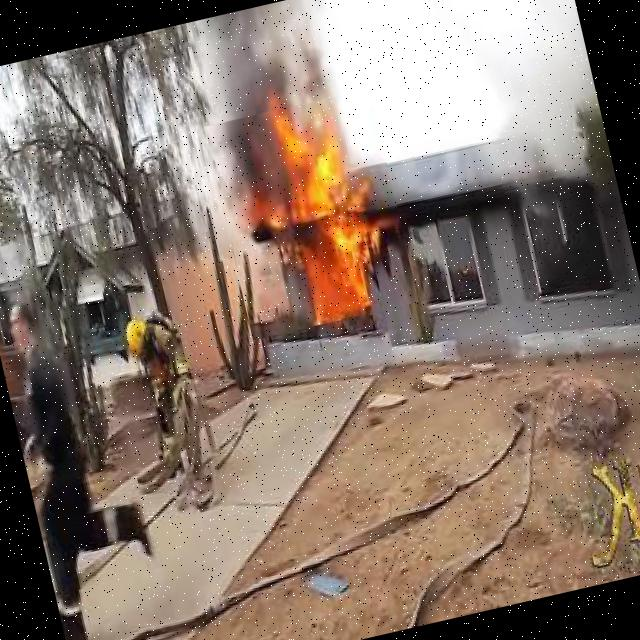fire: (204, 88, 418, 340)
